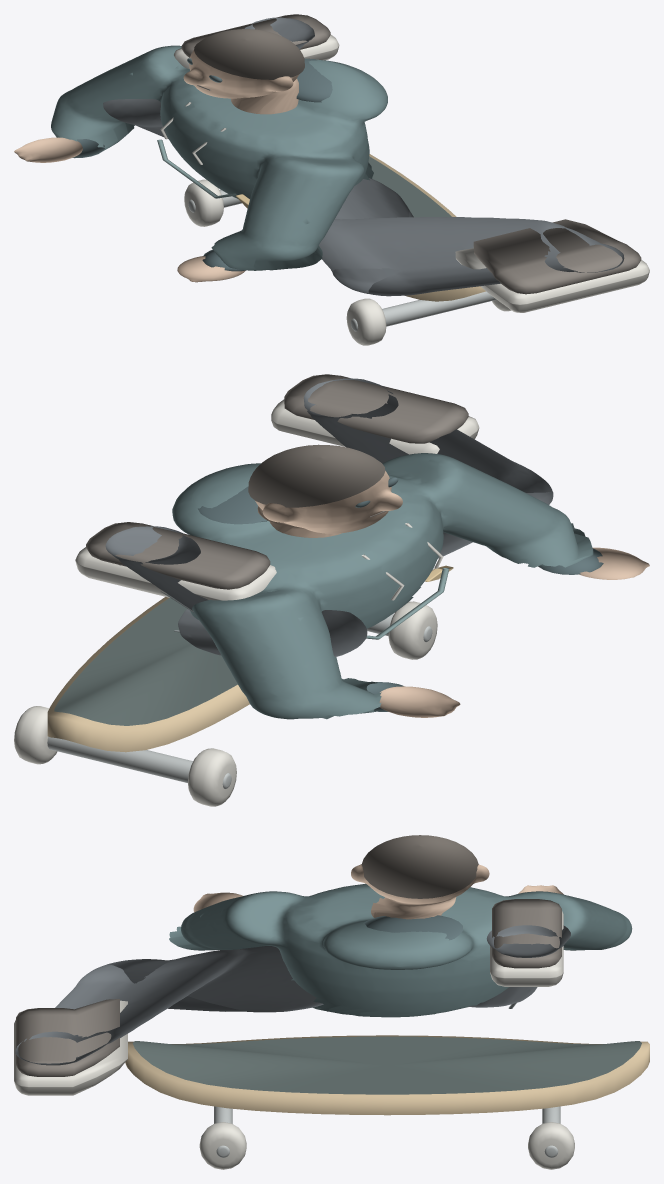
File: skater.glb
3 views of the same model, one above another, from view 1: azimuth 30°, elevation 25°; view 2: azimuth 150°, elevation 25°; view 3: azimuth 270°, elevation 25° (orthographic). The views are drawn at different scales.
Parts seen in each view (by area): view 1: Cotton garment, Denim trousers, RiderBody Suede skate shoes, Skin, Cropped hair, RiderBody Worn offwhite rubber, Skateboard Worn offwhite rubber, Skateboard Brushed trucks, RiderBody Hood lining, Griptape, Maple deck; view 2: Cotton garment, RiderBody Suede skate shoes, Griptape, Denim trousers, Skin, Cropped hair, Maple deck, Skateboard Worn offwhite rubber, RiderBody Worn offwhite rubber, Skateboard Brushed trucks, RiderBody Hood lining, RiderBody Raised cotton seams; view 3: Cotton garment, Griptape, Denim trousers, Maple deck, RiderBody Suede skate shoes, Cropped hair, RiderBody Worn offwhite rubber, Skateboard Worn offwhite rubber, Skin, RiderBody Hood lining, Skateboard Brushed trucks.
Part boxes in pixels (x1,y1,x2,y2): Cotton garment: [51, 45, 387, 270]; Denim trousers: [103, 17, 624, 296]; RiderBody Suede skate shoes: [181, 14, 641, 294]; Skin: [14, 50, 299, 282]; Cropped hair: [194, 29, 304, 79]; RiderBody Worn offwhite rubber: [174, 34, 649, 312]; Skateboard Worn offwhite rubber: [184, 179, 511, 345]; Skateboard Brushed trucks: [188, 189, 496, 331]; RiderBody Hood lining: [72, 58, 332, 271]; Griptape: [368, 156, 451, 217]; Maple deck: [369, 154, 485, 301]; Cotton garment: [172, 453, 593, 719]; RiderBody Suede skate shoes: [86, 374, 468, 589]; Griptape: [54, 598, 237, 725]; Denim trousers: [105, 378, 553, 656]; Skin: [255, 471, 649, 717]; Cropped hair: [248, 444, 385, 507]; Maple deck: [47, 597, 249, 752]; Skateboard Worn offwhite rubber: [14, 601, 437, 806]; RiderBody Worn offwhite rubber: [75, 399, 479, 600]; Skateboard Brushed trucks: [47, 614, 432, 788]; RiderBody Hood lining: [198, 477, 603, 711]; RiderBody Raised cotton seams: [366, 568, 449, 639]; Cotton garment: [169, 883, 632, 1017]; Griptape: [132, 1036, 641, 1094]; Denim trousers: [15, 925, 570, 1065]; Maple deck: [125, 1035, 649, 1115]; RiderBody Suede skate shoes: [16, 899, 561, 1076]; Cropped hair: [361, 835, 478, 898]; RiderBody Worn offwhite rubber: [14, 911, 563, 1095]; Skateboard Worn offwhite rubber: [199, 1122, 574, 1169]; Skin: [193, 864, 563, 919]; RiderBody Hood lining: [363, 915, 462, 940]; Skateboard Brushed trucks: [214, 1106, 560, 1157].
Bounding box in the file's own units: 0.7989 × 0.4848 × 1.16.
